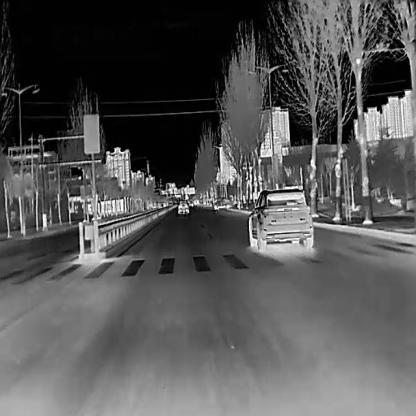car: (247, 186, 313, 250), (177, 200, 188, 214)
